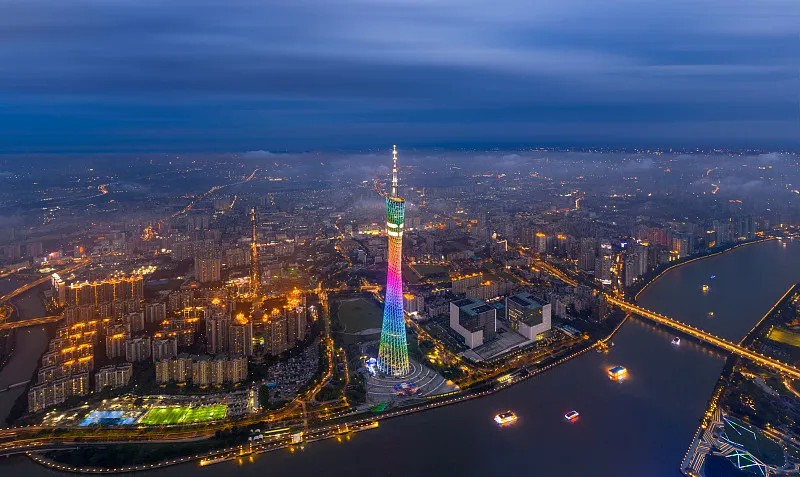Canton: (376, 143, 412, 376)
